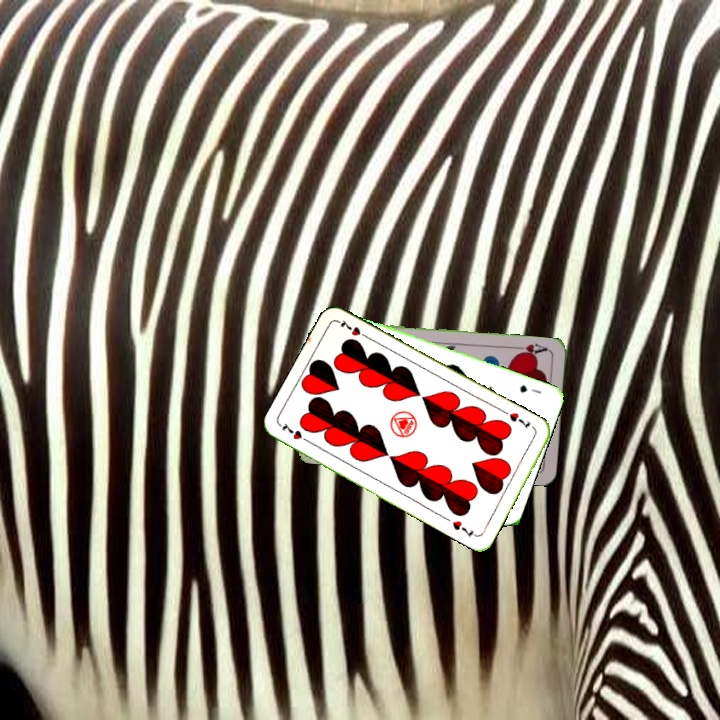GU: (516, 381, 544, 396)
H7: (278, 419, 314, 446), (505, 408, 533, 431)
HA: (511, 339, 552, 359)
